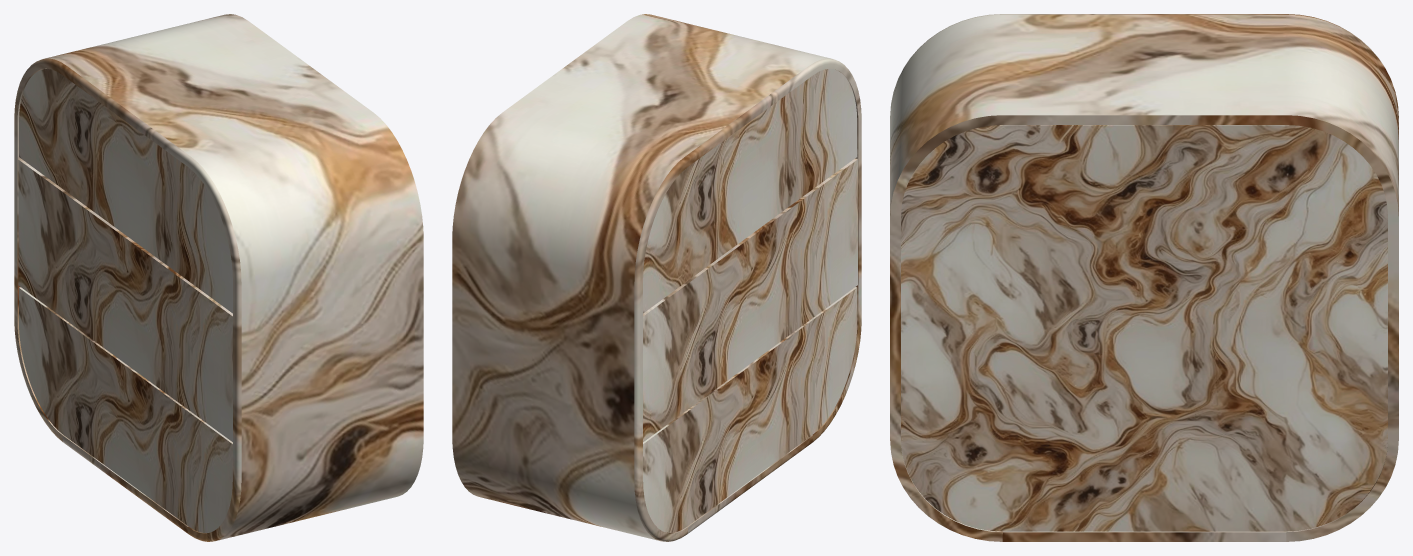
File: 1tumba17.glb
3 views of the same model, side by side, from view 1: azimuth 30°, elevation 25°; view 2: azimuth 150°, elevation 25°; view 3: azimuth 270°, elevation 25° (orthographic). The views are drawn at different scales.
Parts seen in each view (by area): view 1: tumba, Object03, Object02, Object01; view 2: tumba, Object03, Object02, Object01; view 3: Plane, tumba.
Part boxes in pixels (x1=…): tumba: x1=14, y1=14, x2=423, y2=541; Object03: x1=18, y1=159, x2=232, y2=441; Object02: x1=19, y1=287, x2=232, y2=532; Object01: x1=19, y1=68, x2=232, y2=313; tumba: x1=452, y1=14, x2=861, y2=541; Object03: x1=643, y1=158, x2=857, y2=441; Object02: x1=643, y1=287, x2=857, y2=532; Object01: x1=643, y1=68, x2=857, y2=313; Plane: x1=901, y1=125, x2=1387, y2=531; tumba: x1=890, y1=14, x2=1398, y2=541.
Bounding box in the file's own units: 0.2246 × 0.435 × 0.47.
4 materials, 3 textured.
